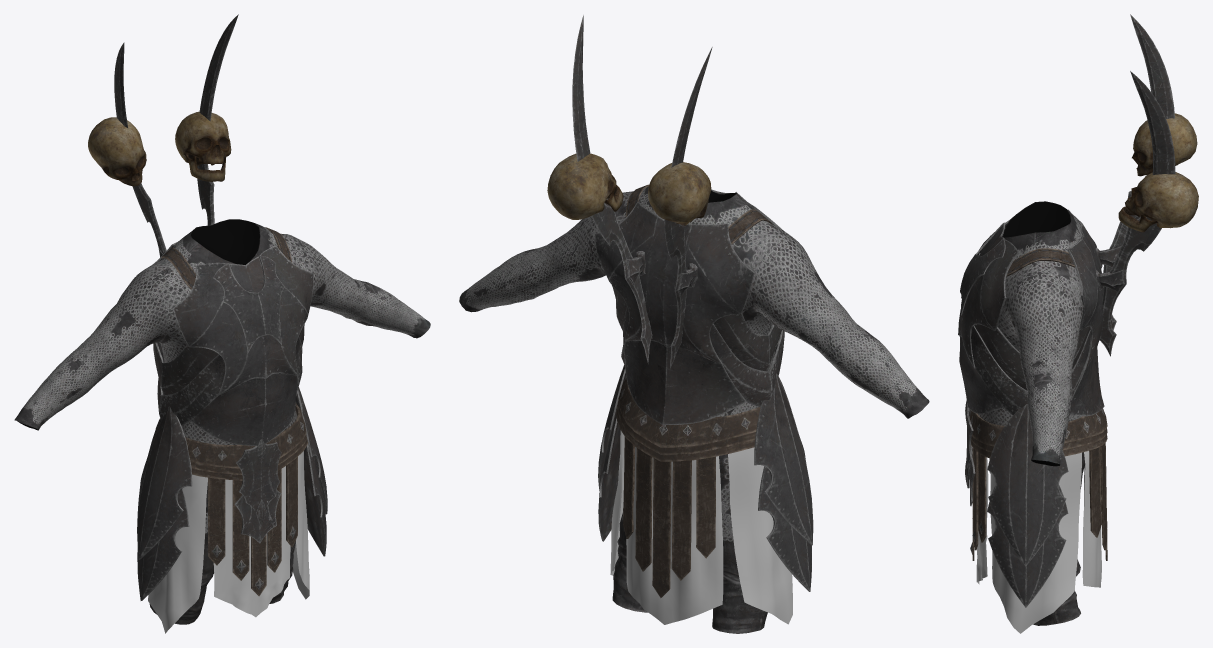
The model's file is sk_uruk_mordor_chainmail_captain_c1.fbx.
The picture shows the model from 3 angles, left to right: view 1: azimuth 30°, elevation 25°; view 2: azimuth 150°, elevation 25°; view 3: azimuth 270°, elevation 25°; orthographic projection. The views are drawn at different scales.
Visible parts, largest first — view 1: sk_uruk_mordor_chainmail_captain_c1.5, sk_uruk_mordor_chainmail_captain_c1.0, sk_uruk_mordor_chainmail_captain_c1.1, sk_uruk_mordor_chainmail_captain_c1.2, sk_uruk_mordor_chainmail_captain_c1.4, sk_uruk_mordor_chainmail_captain_c1.3; view 2: sk_uruk_mordor_chainmail_captain_c1.1, sk_uruk_mordor_chainmail_captain_c1.0, sk_uruk_mordor_chainmail_captain_c1.5, sk_uruk_mordor_chainmail_captain_c1.2, sk_uruk_mordor_chainmail_captain_c1.4; view 3: sk_uruk_mordor_chainmail_captain_c1.1, sk_uruk_mordor_chainmail_captain_c1.0, sk_uruk_mordor_chainmail_captain_c1.5, sk_uruk_mordor_chainmail_captain_c1.4, sk_uruk_mordor_chainmail_captain_c1.2, sk_uruk_mordor_chainmail_captain_c1.3.
Boxes of the visible parts, x1,y1,x2,y2 form: sk_uruk_mordor_chainmail_captain_c1.5: (134, 242, 313, 445); sk_uruk_mordor_chainmail_captain_c1.0: (14, 219, 430, 624); sk_uruk_mordor_chainmail_captain_c1.1: (88, 14, 307, 596); sk_uruk_mordor_chainmail_captain_c1.2: (148, 451, 309, 633); sk_uruk_mordor_chainmail_captain_c1.4: (137, 387, 327, 600); sk_uruk_mordor_chainmail_captain_c1.3: (234, 439, 281, 543); sk_uruk_mordor_chainmail_captain_c1.1: (547, 15, 772, 597); sk_uruk_mordor_chainmail_captain_c1.0: (459, 186, 929, 633); sk_uruk_mordor_chainmail_captain_c1.5: (595, 189, 784, 424); sk_uruk_mordor_chainmail_captain_c1.2: (610, 430, 792, 624); sk_uruk_mordor_chainmail_captain_c1.4: (598, 365, 813, 591); sk_uruk_mordor_chainmail_captain_c1.1: (969, 14, 1198, 560); sk_uruk_mordor_chainmail_captain_c1.0: (978, 201, 1085, 625); sk_uruk_mordor_chainmail_captain_c1.5: (958, 209, 1104, 416); sk_uruk_mordor_chainmail_captain_c1.4: (987, 404, 1068, 607); sk_uruk_mordor_chainmail_captain_c1.2: (976, 451, 1101, 633); sk_uruk_mordor_chainmail_captain_c1.3: (965, 400, 975, 506).
Bounding box in the file's own units: 1.37 × 0.6871 × 1.76.
